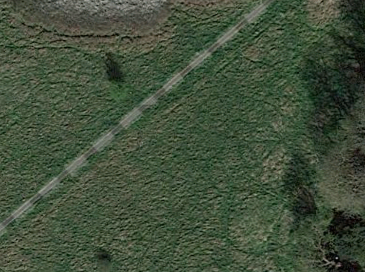tree: (103, 75, 131, 102), (94, 250, 120, 272)
